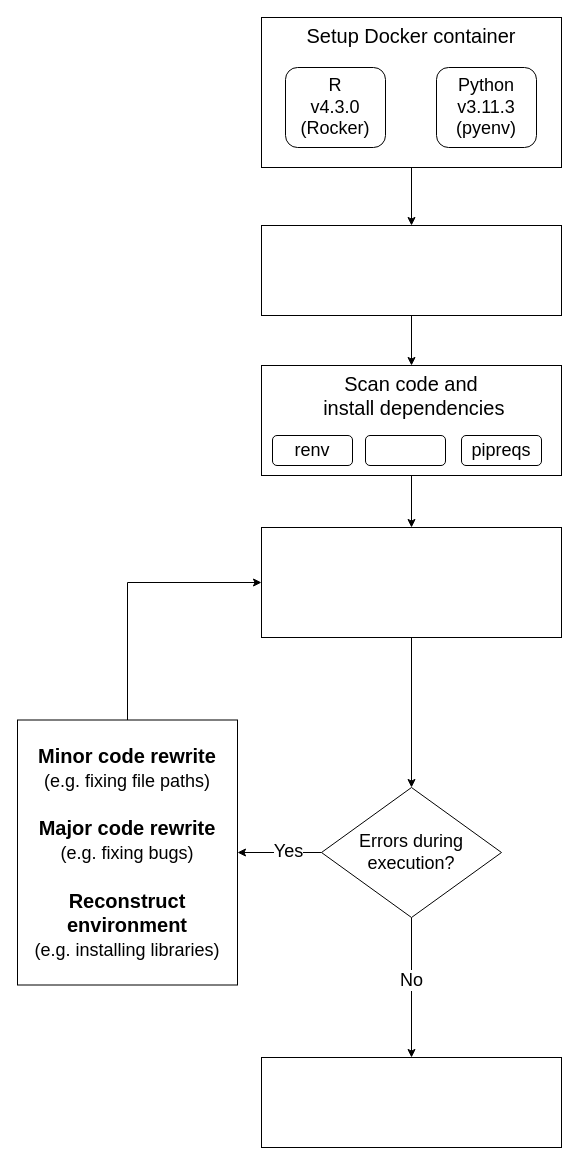
Image size: 579x1165. Some labels were removed from this diagram. The centre of each missing label's shape, as x and y in pixels:
"Copy the artifacts out of the Container" belongs at (x=411, y=1102).
"Execute the code using R CMD BATCH or jupyter nbconvert --execute" belongs at (x=411, y=582).
"Obtain the data and code from our OSF cache or GitHub" belongs at (x=411, y=270).
"remotes" belongs at (x=405, y=450).
